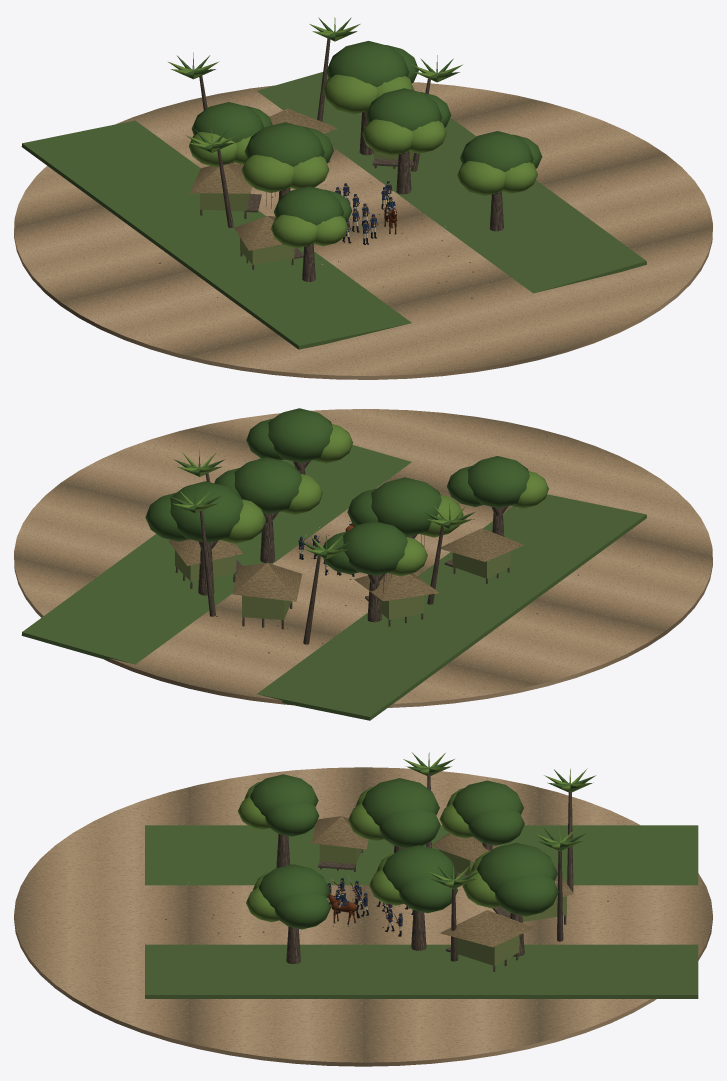
Rendered from 16.Banten_1888_Colonial_Troop_Mobilization-compressed.glb.
The picture shows the model from 3 angles, top to bottom: view 1: azimuth 30°, elevation 25°; view 2: azimuth 150°, elevation 25°; view 3: azimuth 270°, elevation 25°; orthographic projection.
Visible parts, largest first — view 1: Banten_Dirt_Road, Tropical_Banten_Environment; view 2: Tropical_Banten_Environment, Banten_Dirt_Road; view 3: Tropical_Banten_Environment, Banten_Dirt_Road.
Boxes of the visible parts, <box> form: Banten_Dirt_Road: <box>14,82,712,379</box>; Tropical_Banten_Environment: <box>21,17,646,349</box>; Tropical_Banten_Environment: <box>21,408,646,720</box>; Banten_Dirt_Road: <box>14,409,712,707</box>; Tropical_Banten_Environment: <box>145,752,698,1017</box>; Banten_Dirt_Road: <box>14,767,712,1066</box>.
Size of the model in its own units: 48 by 8.94 by 48.
24 materials, 8 textured.
